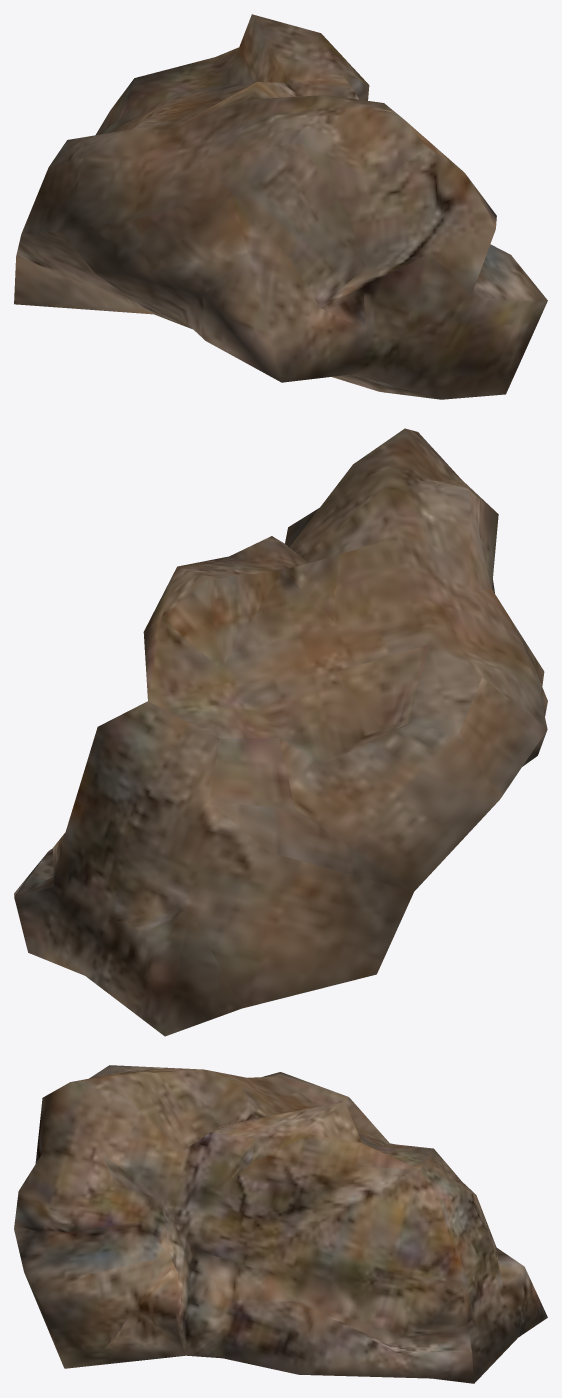
Rendered from rock_a_far.glb.
3 renders of one model, top to bottom at view 1: azimuth 30°, elevation 25°; view 2: azimuth 150°, elevation 25°; view 3: azimuth 270°, elevation 25°, orthographic. The views are drawn at different scales.
Parts seen in each view (by area): view 1: rock_a_far; view 2: rock_a_far; view 3: rock_a_far.
Part boxes in pixels (x1=…): rock_a_far: x1=14, y1=14, x2=547, y2=399; rock_a_far: x1=14, y1=428, x2=547, y2=1036; rock_a_far: x1=14, y1=1065, x2=547, y2=1383.
Bounding box in the file's own units: 1.28 × 1 × 1.83.
1 material, 1 textured.
